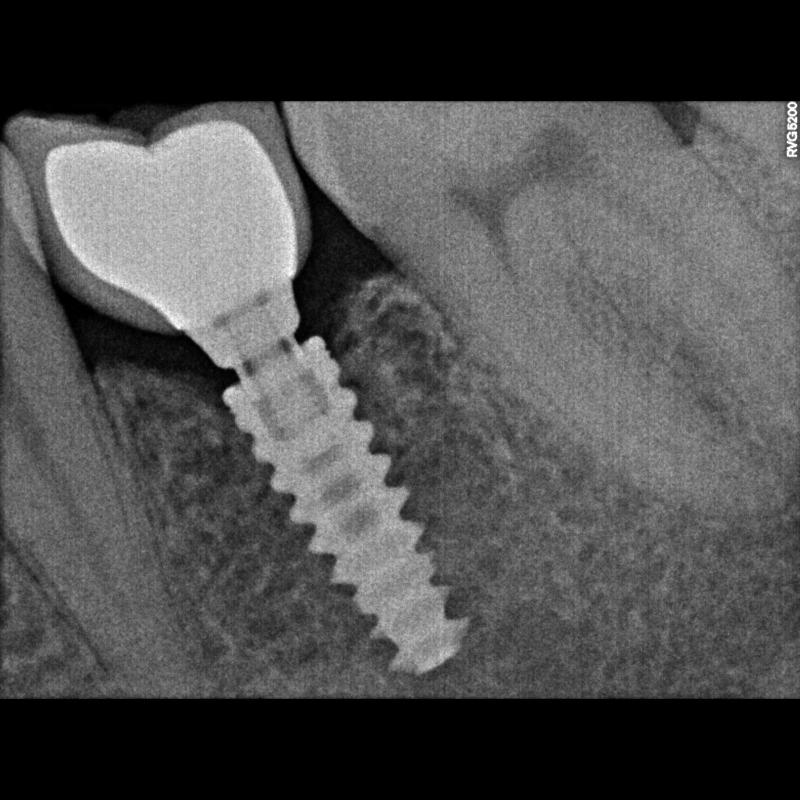ADIN: (206, 345, 478, 671)
